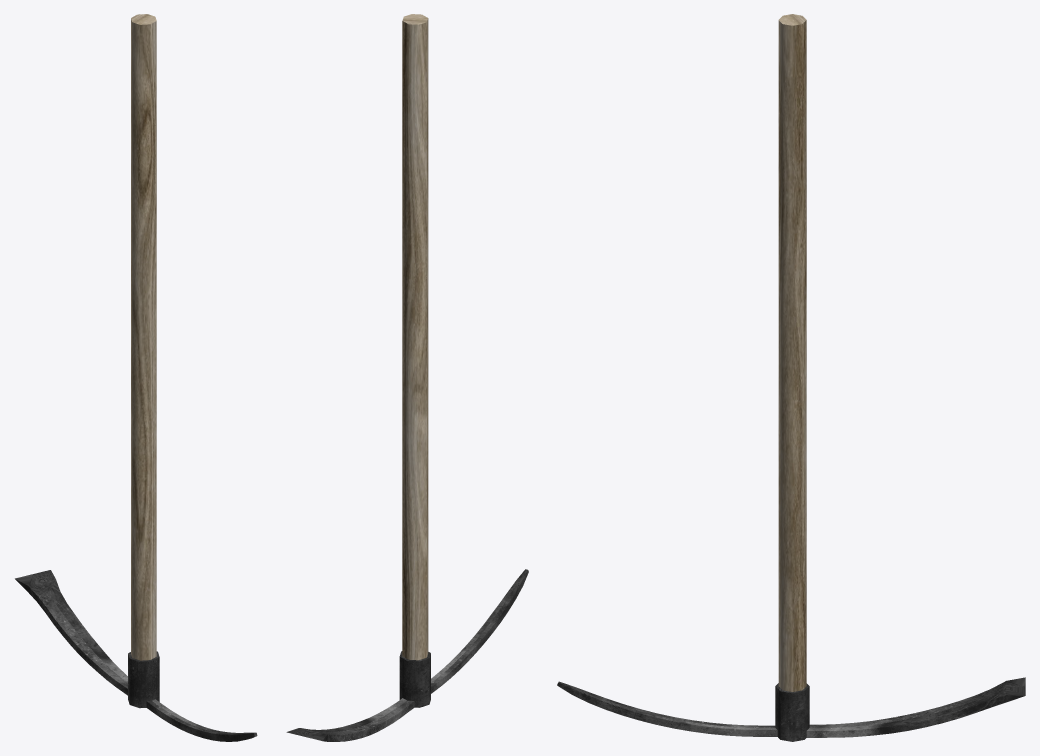
The model's file is Picaxe.fbx.
3 views of the same model, side by side, from view 1: azimuth 30°, elevation 25°; view 2: azimuth 150°, elevation 25°; view 3: azimuth 270°, elevation 25° (orthographic). The views are drawn at different scales.
Visible parts, largest first — view 1: Cylinder.002; view 2: Cylinder.002; view 3: Cylinder.002.
Boxes of the visible parts, x1=… form: Cylinder.002: x1=15, y1=14, x2=257, y2=741; Cylinder.002: x1=286, y1=14, x2=528, y2=741; Cylinder.002: x1=557, y1=14, x2=1025, y2=741.
Bounding box in the file's own units: 32.49 × 584 × 347.
